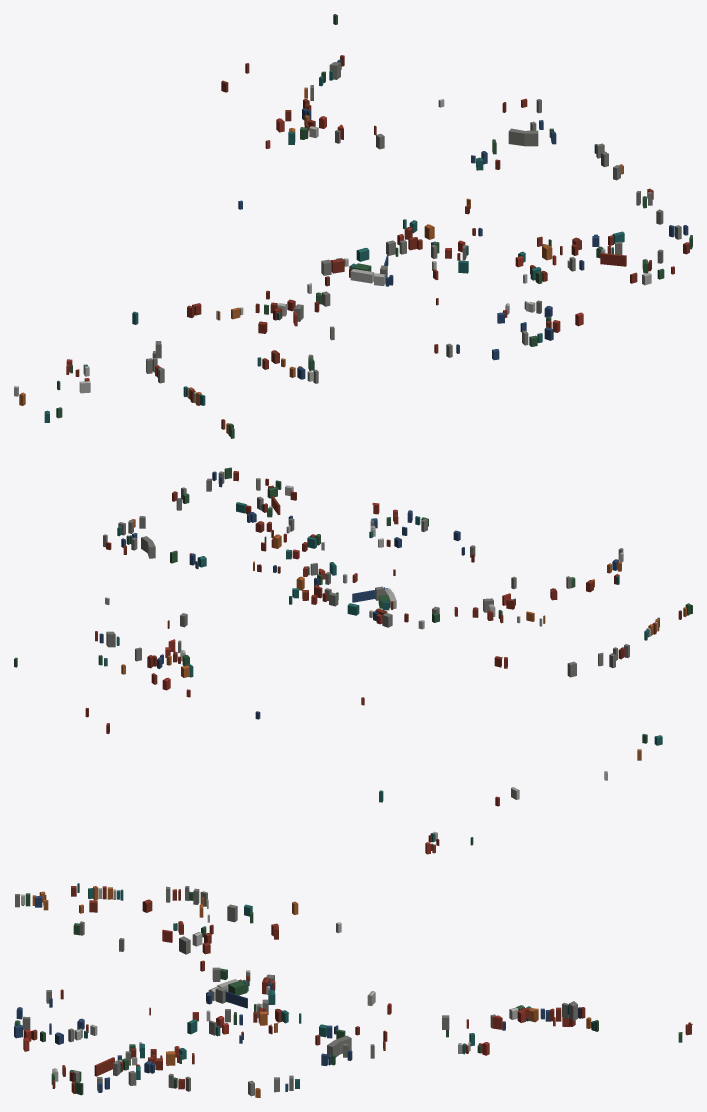
Rendered from near-15-27352-14872.ad413911.glb.
3 views of the same model, one above another, from view 1: azimuth 30°, elevation 25°; view 2: azimuth 150°, elevation 25°; view 3: azimuth 270°, elevation 25° (orthographic). The views are drawn at different scales.
Bounding box in the file's own units: 1178 × 407 × 1165.
